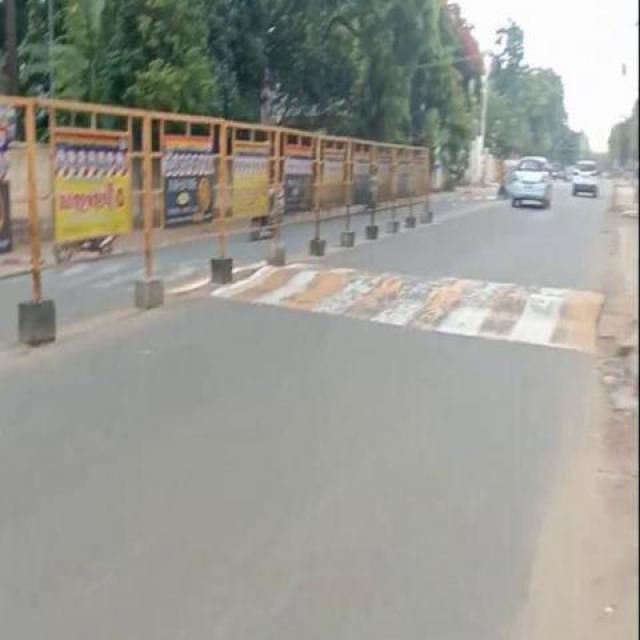Speed Bump: (234, 256, 609, 352), (44, 258, 135, 294), (164, 256, 211, 295)
